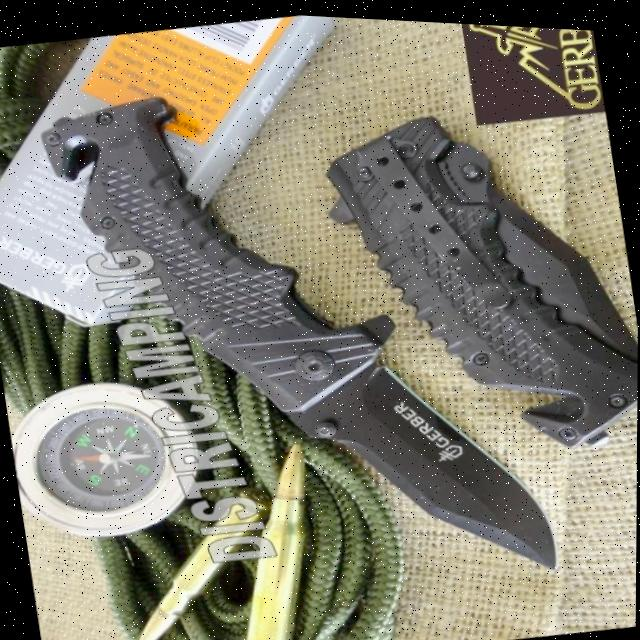knife: (29, 16, 552, 626), (297, 97, 640, 459)
